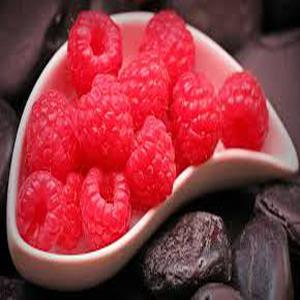raspb: (44, 73, 163, 205)
